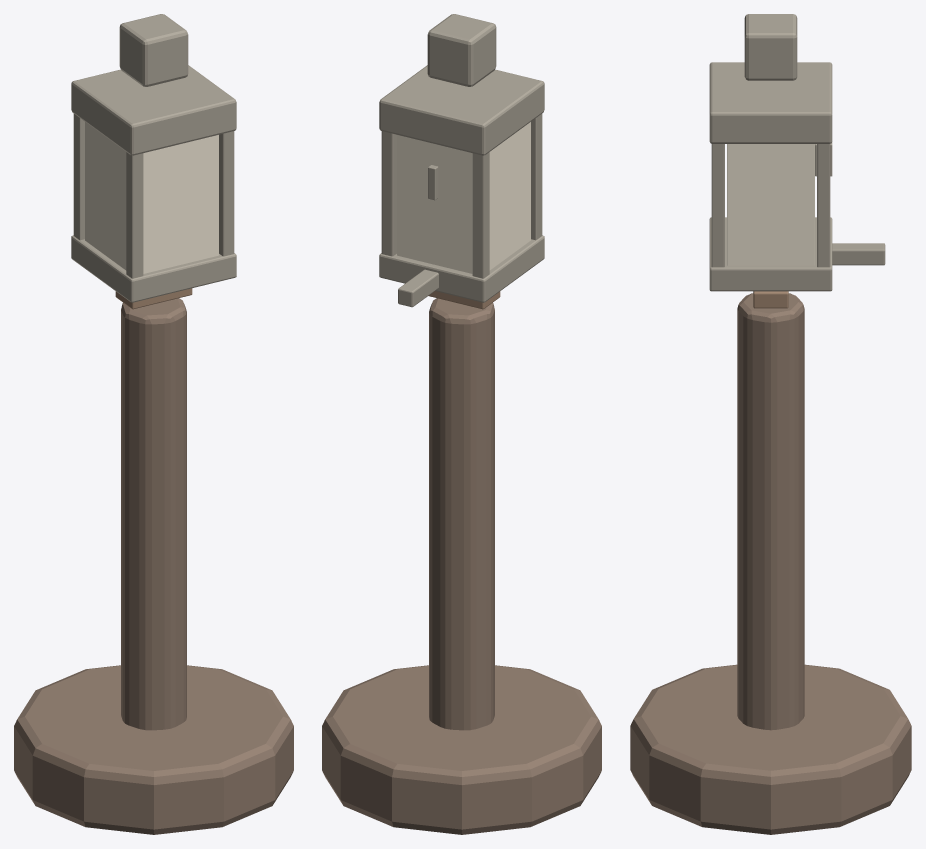
The model's file is memorial_lantern_v2.glb.
3 views of the same model, side by side, from view 1: azimuth 30°, elevation 25°; view 2: azimuth 150°, elevation 25°; view 3: azimuth 270°, elevation 25° (orthographic).
Visible parts, largest first — view 1: Stand_Base, Stand_Post, Lantern_Cap, Glass_F, Glass_L, Lantern_Bottom, Lantern_Cap_Top, Bar_2, Bar_3, Bar_1, Stand_Brace; view 2: Stand_Base, Stand_Post, Lantern_Cap, Glass_B, Glass_L, Lantern_Cap_Top, Lantern_Bottom, Bar_1, Bar_0, Bar_2, Stand_Hook; view 3: Stand_Base, Stand_Post, Glass_R, Lantern_Cap, Lantern_Bottom, Lantern_Cap_Top, Bar_0, Bar_3, Stand_Hook, Stand_Brace.
Part boxes in pixels (<box>): Stand_Base: <box>14,665,293,834</box>; Stand_Post: <box>121,298,186,730</box>; Lantern_Cap: <box>71,65,236,155</box>; Glass_F: <box>143,135,218,273</box>; Glass_L: <box>85,122,126,270</box>; Lantern_Bottom: <box>71,235,236,302</box>; Lantern_Cap_Top: <box>119,14,188,86</box>; Bar_2: <box>126,152,143,278</box>; Bar_3: <box>219,131,234,256</box>; Bar_1: <box>73,114,84,240</box>; Stand_Brace: <box>115,288,192,309</box>; Stand_Base: <box>322,665,601,834</box>; Stand_Post: <box>429,298,494,730</box>; Lantern_Cap: <box>379,65,544,155</box>; Glass_B: <box>397,135,472,273</box>; Glass_L: <box>489,122,530,270</box>; Lantern_Cap_Top: <box>427,14,496,86</box>; Lantern_Bottom: <box>379,235,544,302</box>; Bar_1: <box>472,152,489,278</box>; Bar_0: <box>381,131,396,256</box>; Bar_2: <box>531,114,542,240</box>; Stand_Hook: <box>398,269,438,307</box>; Stand_Base: <box>630,664,911,834</box>; Stand_Post: <box>737,293,804,730</box>; Glass_R: <box>727,144,814,265</box>; Lantern_Cap: <box>709,62,832,143</box>; Lantern_Bottom: <box>709,217,832,291</box>; Lantern_Cap_Top: <box>744,14,797,80</box>; Bar_0: <box>817,144,830,267</box>; Bar_3: <box>711,144,724,267</box>; Stand_Hook: <box>832,243,885,265</box>; Stand_Brace: <box>753,291,788,308</box>.
Bounding box in the file's own units: 0.32 × 0.95 × 0.32.
